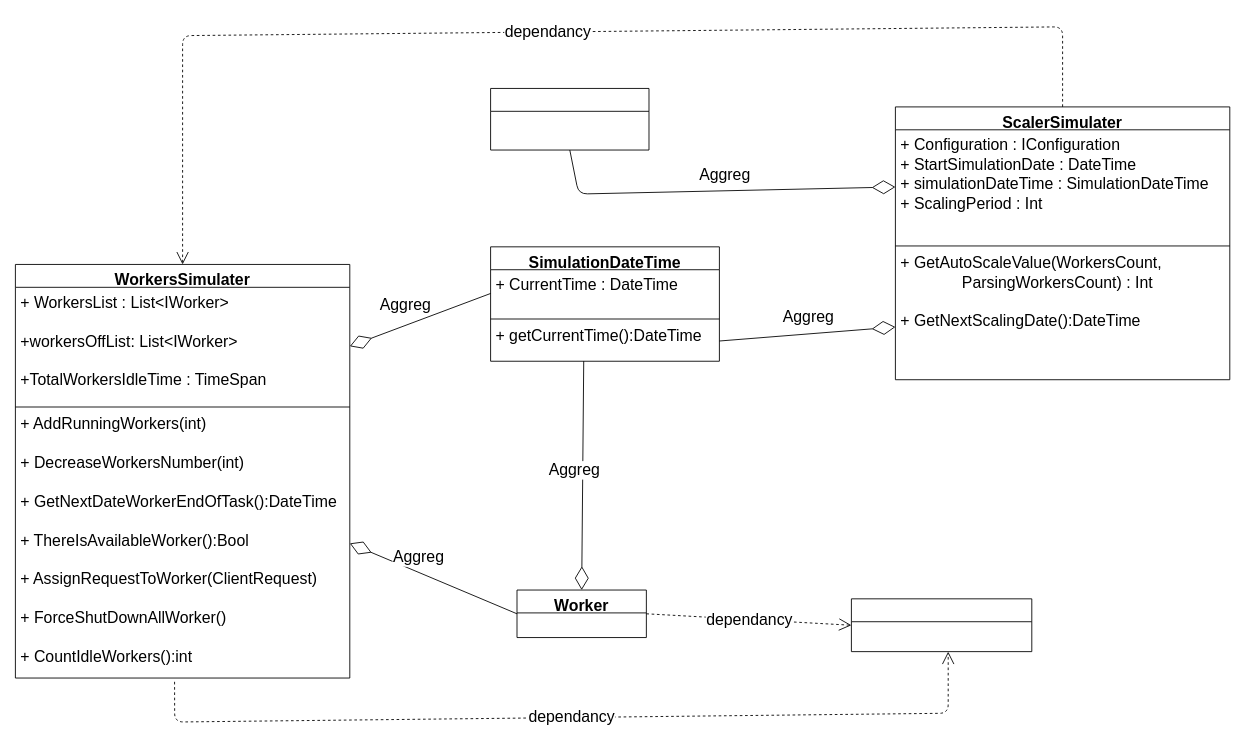
This 1245x750 diagram has some shape labels left out. Here are the shapes that lost their labels. From the top down, the centre of each, then its label:
At (569,119): "Configuration".
At (941,625): "ClientRequest".
